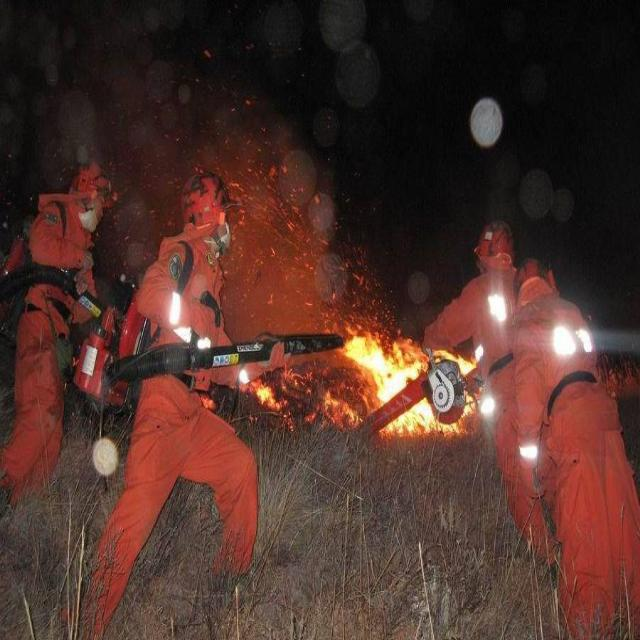fire: (251, 294, 483, 442)
other: (162, 281, 220, 350), (542, 320, 597, 361), (488, 291, 510, 327)
